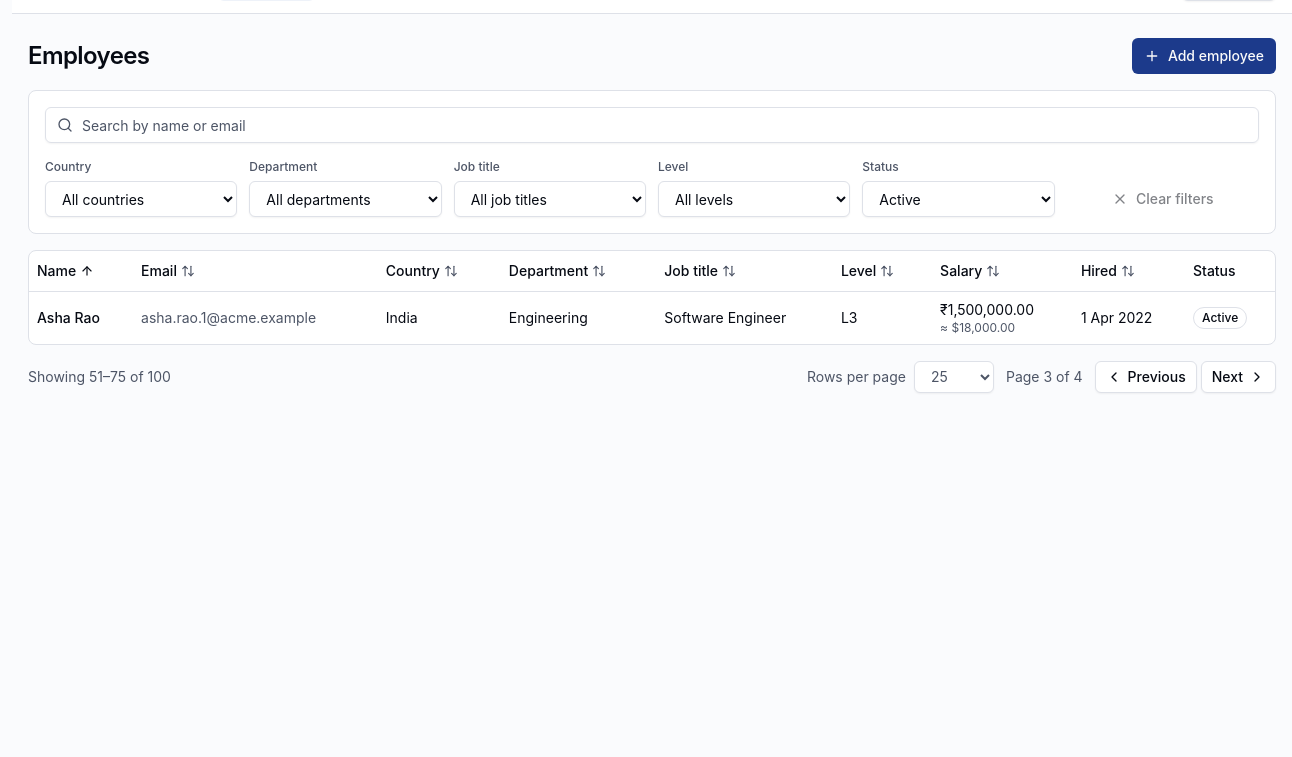
Test: employee directory › filters › filters by country, going back to the first page
Expected: the link "Asha Rao" is shown, [37,308,100,326]
Select "India" in the dropdown labelled "Country" at {"x": 141, "y": 199}, box [45,181,237,217]
(page scrolled)
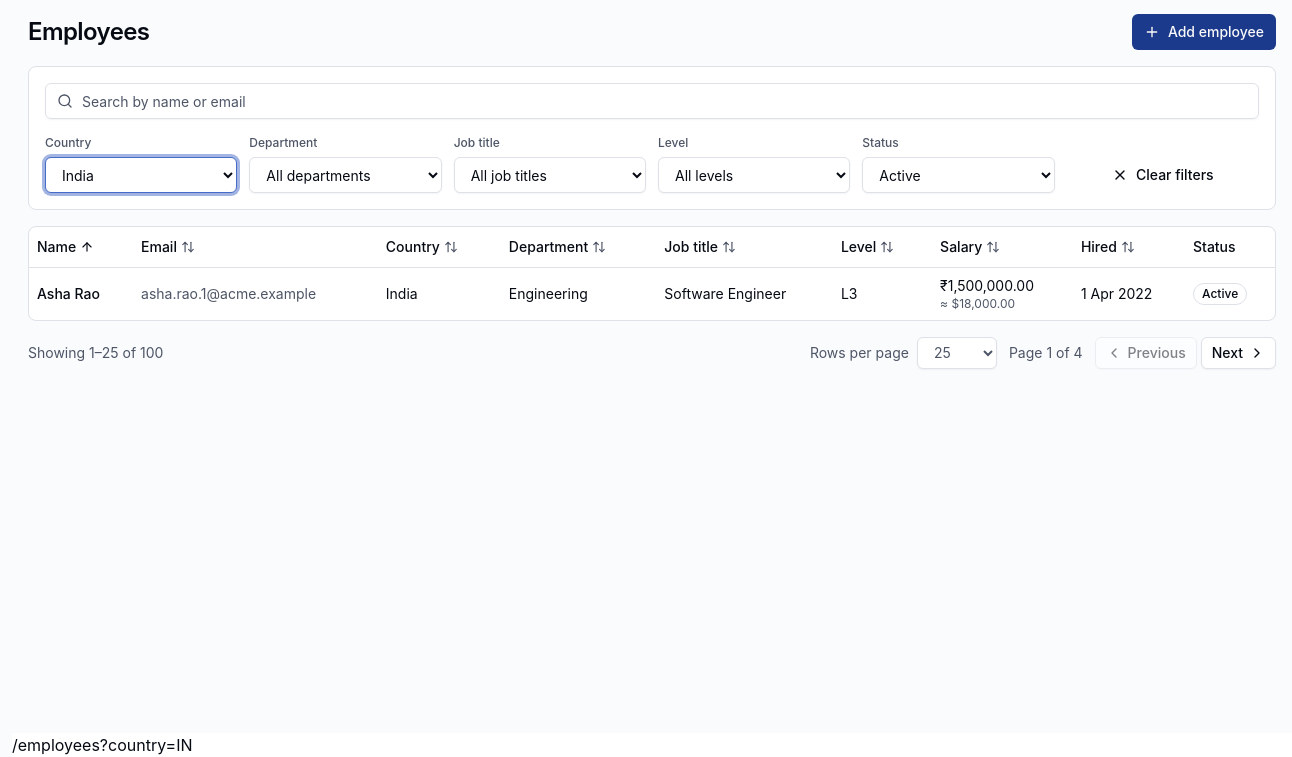
Now the text with test id "location" reads "/employees?country=IN", box [12,735,192,755]
